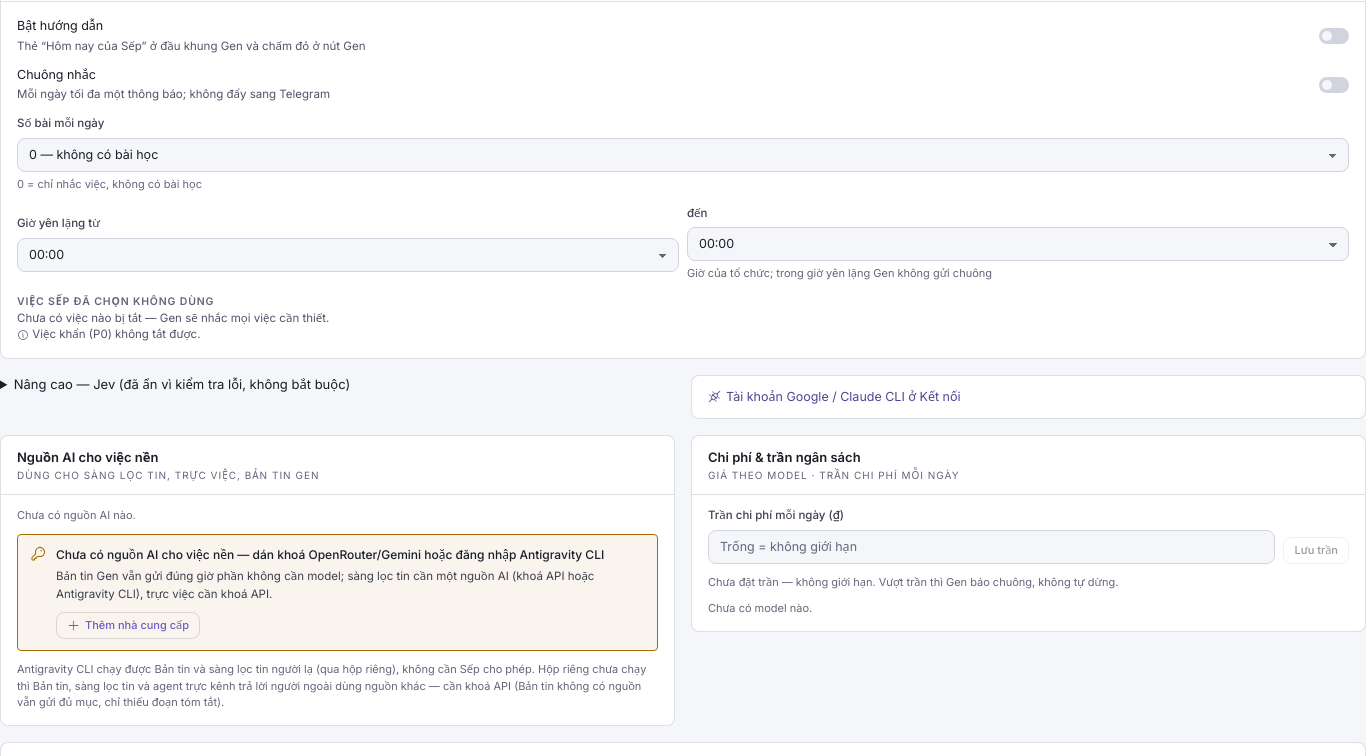
it: v0.1.39 — Jev "Kiểm tra 1 lần" và thu vào "Nâng cao" khi lỗi › Jev đã kiểm lỗi: thẻ ẩn trong "Nâng cao"; bấm summary thì thấy lại
(page scrolled)
Expected: the text "Jev — quyết định nhanh cho Gen" is not shown
Click the heading "Nâng cao — Jev (đã ẩn vì kiểm tra lỗi, không bắt buộc)".
click(182, 384)  # box [14, 376, 350, 392]
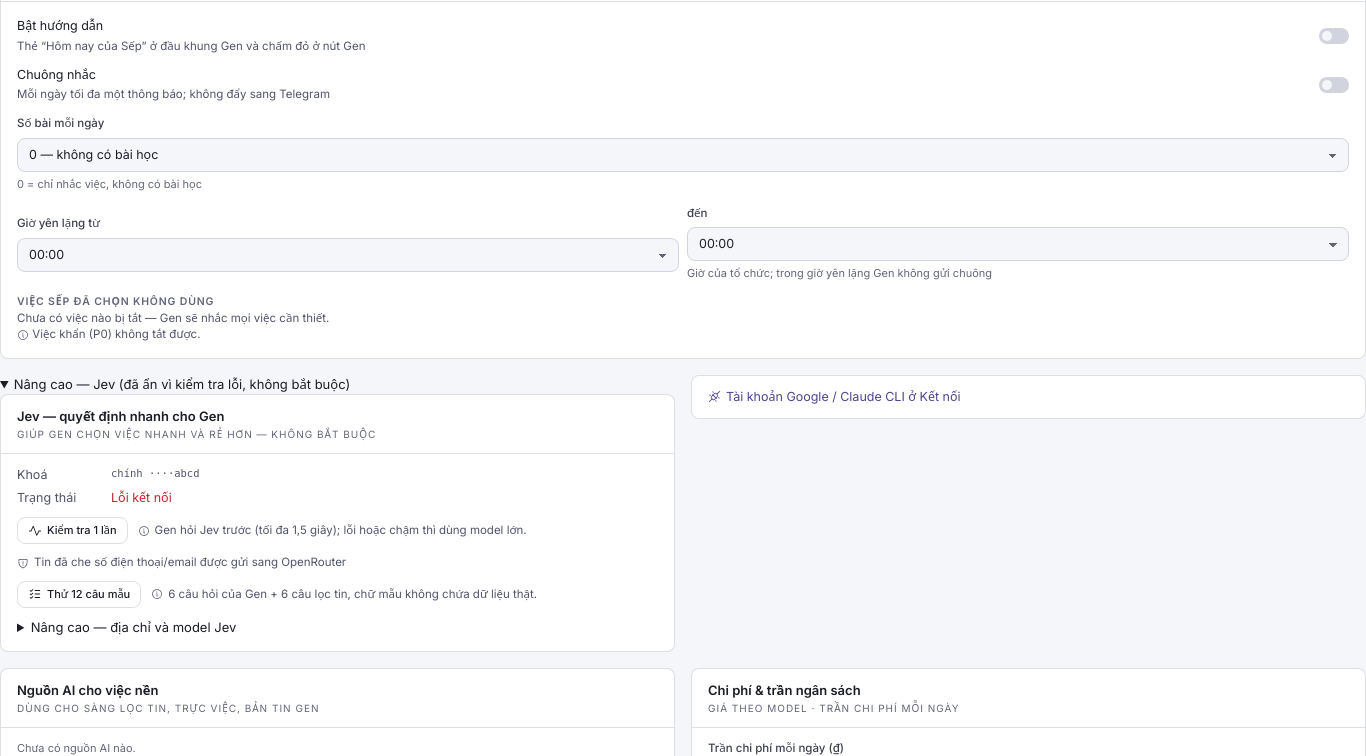
Now the text "Jev — quyết định nhanh cho Gen" is shown, box [17, 408, 224, 424]
